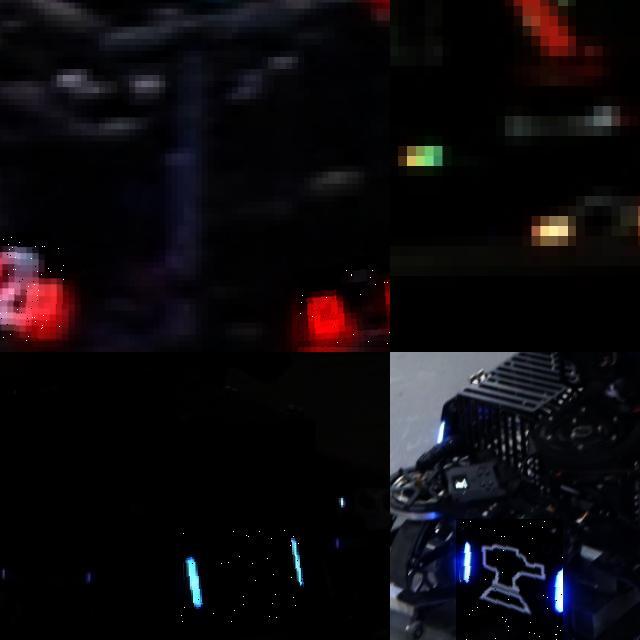Bs: (456, 519, 563, 640), (181, 529, 306, 622)
R2: (0, 232, 68, 340), (298, 268, 390, 346)
